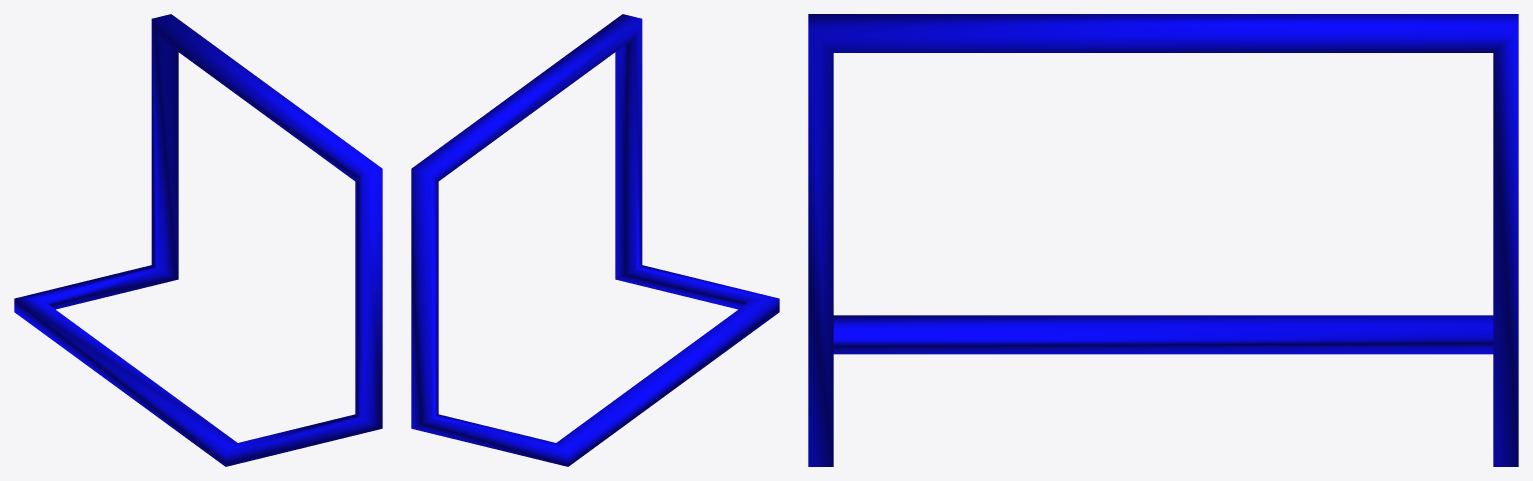
File: Goalsally.005.dae
The picture shows the model from 3 angles, left to right: view 1: azimuth 30°, elevation 25°; view 2: azimuth 150°, elevation 25°; view 3: azimuth 270°, elevation 25°; orthographic projection. The views are drawn at different scales.
Parts seen in each view (by area): view 1: collision_0_field_1_1; view 2: collision_0_field_1_1; view 3: collision_0_field_1_1.
Part boxes in pixels (x1,y1,x2,y2): collision_0_field_1_1: [14, 14, 382, 466]; collision_0_field_1_1: [411, 14, 779, 466]; collision_0_field_1_1: [808, 14, 1518, 466].
Size of the model in its own units: 1.59 by 3.71 by 2.52.
